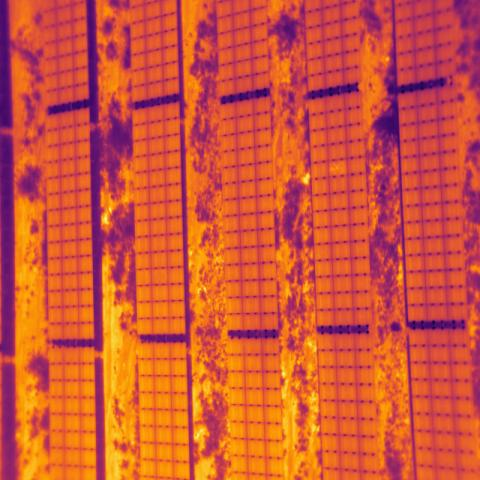fault: (328, 159, 348, 178)
